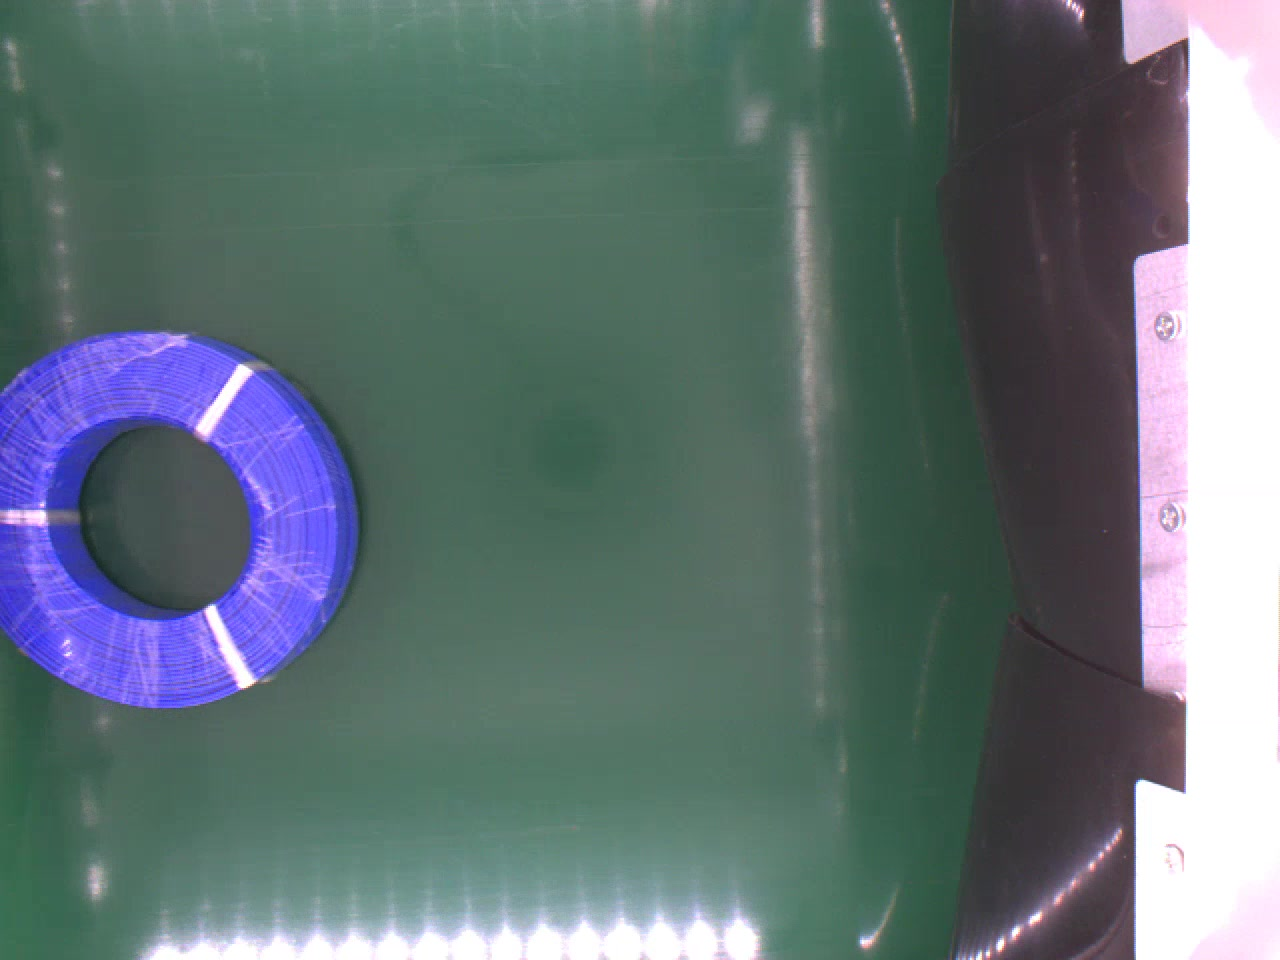blue: (0, 329, 362, 712)
